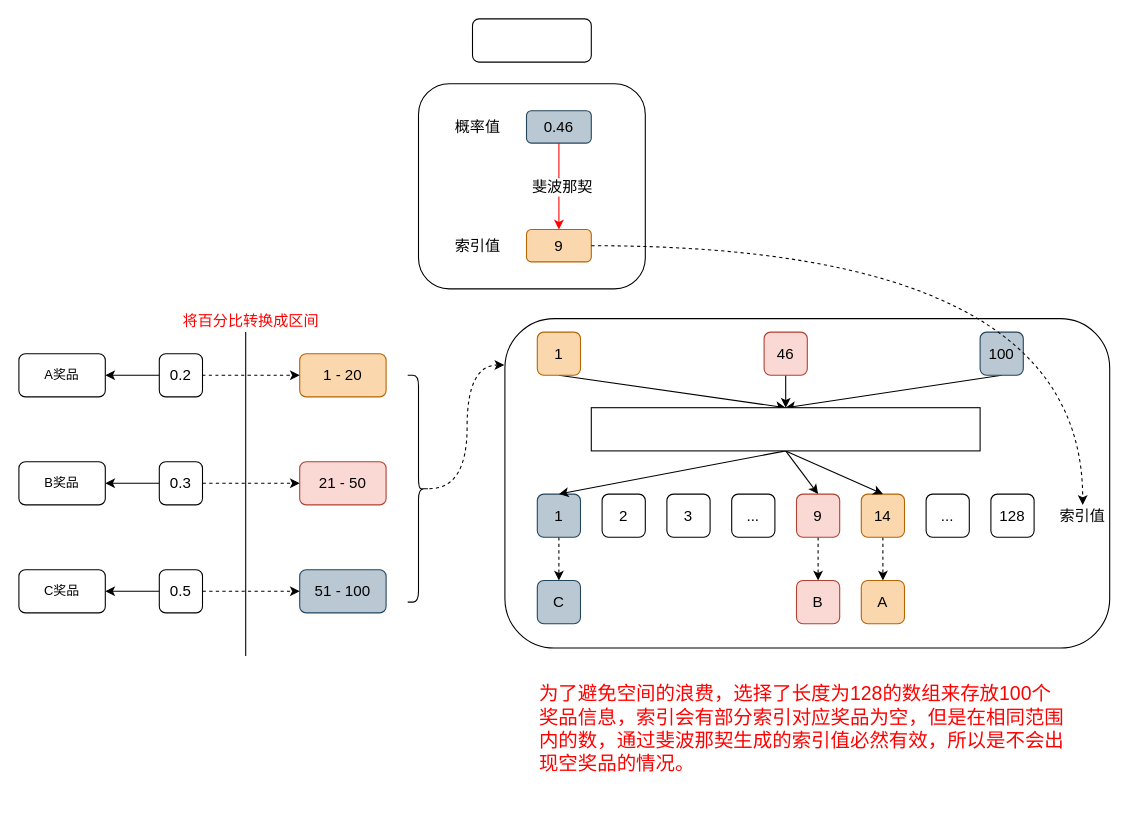
The diagram is 1129 pixels wide and 828 high, and some of its shapes have lost their labels. Each missing label, with the centre of its shape:
"单项概率 抽奖策略" goes at [531,40].
"斐波那契散列索引 （20 * HASH_INCREMENT + HASH_INCREMENT）& （128-1）" goes at [785,429].
